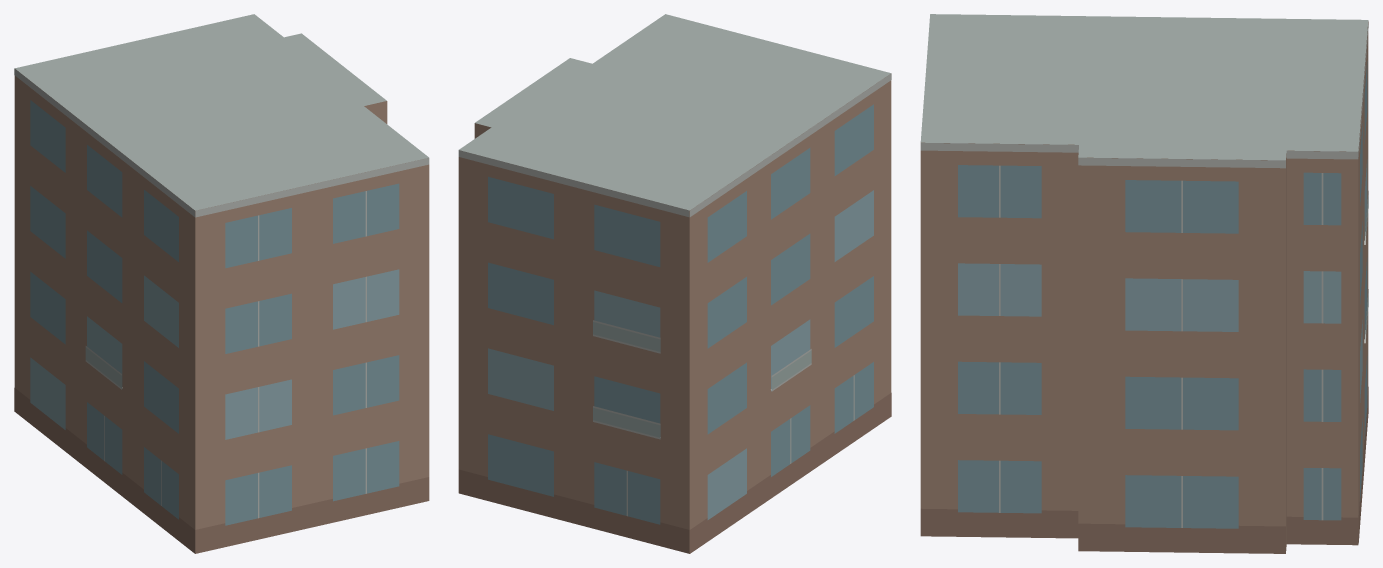
File: residential-4ba0e9eb-072b-408e-aee1-50315779e60c.glb
3 views of the same model, side by side, from view 1: azimuth 30°, elevation 25°; view 2: azimuth 150°, elevation 25°; view 3: azimuth 270°, elevation 25° (orthographic). The views are drawn at different scales.
Visible parts, largest first — view 1: residential-4ba0e9eb-072b-408e-aee1-50315779e60c.tmp; view 2: residential-4ba0e9eb-072b-408e-aee1-50315779e60c.tmp; view 3: residential-4ba0e9eb-072b-408e-aee1-50315779e60c.tmp.
Part boxes in pixels (bbox=[...]): residential-4ba0e9eb-072b-408e-aee1-50315779e60c.tmp: bbox=[14, 14, 429, 553]; residential-4ba0e9eb-072b-408e-aee1-50315779e60c.tmp: bbox=[458, 14, 891, 553]; residential-4ba0e9eb-072b-408e-aee1-50315779e60c.tmp: bbox=[920, 14, 1368, 553].
Bounding box in the file's own units: 9.74 × 12.2 × 12.59.
